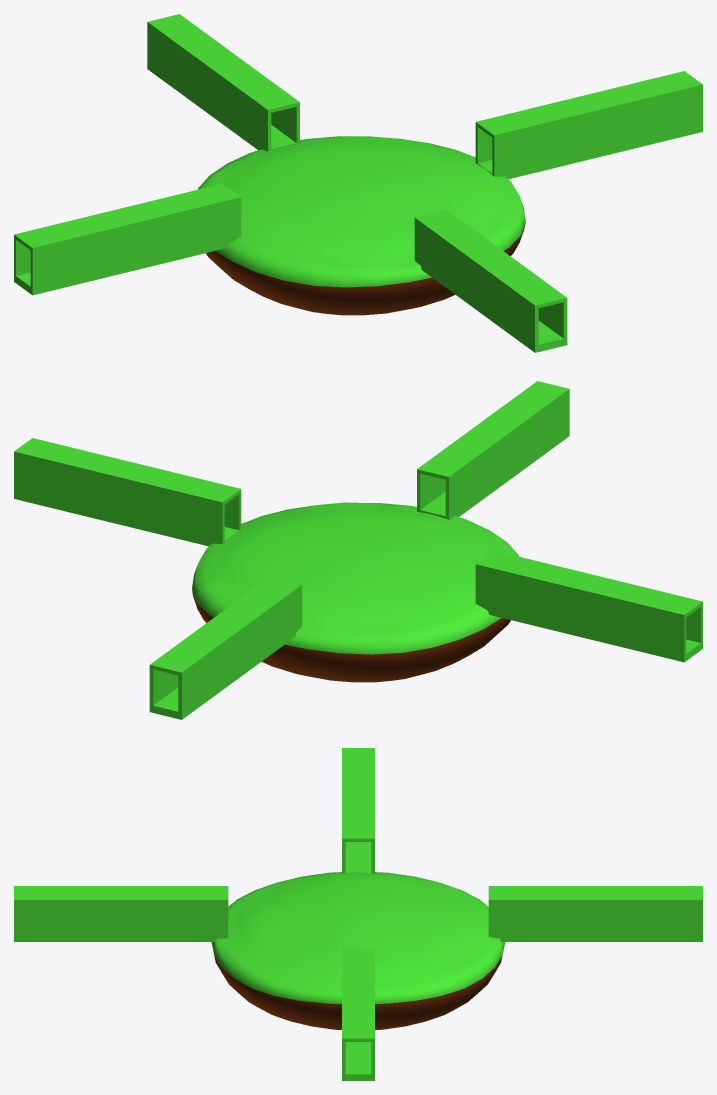
File: Ground.fbx
3 views of the same model, one above another, from view 1: azimuth 30°, elevation 25°; view 2: azimuth 150°, elevation 25°; view 3: azimuth 270°, elevation 25° (orthographic). The views are drawn at different scales.
Parts seen in each view (by area): view 1: Cube, Cube.002, Cube.001, Cube.003, Cube.004; view 2: Cube, Cube.002, Cube.001, Cube.004, Cube.003; view 3: Cube, Cube.003, Cube.004, Cube.001, Cube.002.
Boxes of the visible parts, x1,y1,x2,y2 form: Cube: (198, 136, 525, 315); Cube.002: (14, 183, 241, 295); Cube.001: (475, 71, 702, 179); Cube.003: (414, 209, 567, 352); Cube.004: (147, 14, 299, 151); Cube: (192, 502, 518, 682); Cube.002: (475, 550, 702, 662); Cube.001: (14, 438, 241, 546); Cube.004: (149, 576, 302, 719); Cube.003: (417, 381, 569, 519); Cube: (211, 872, 505, 1029); Cube.003: (14, 886, 228, 941); Cube.004: (488, 886, 702, 941); Cube.001: (342, 948, 374, 1080); Cube.002: (342, 748, 374, 873).
Bounding box in the file's own units: 3854 × 702 × 3860.
